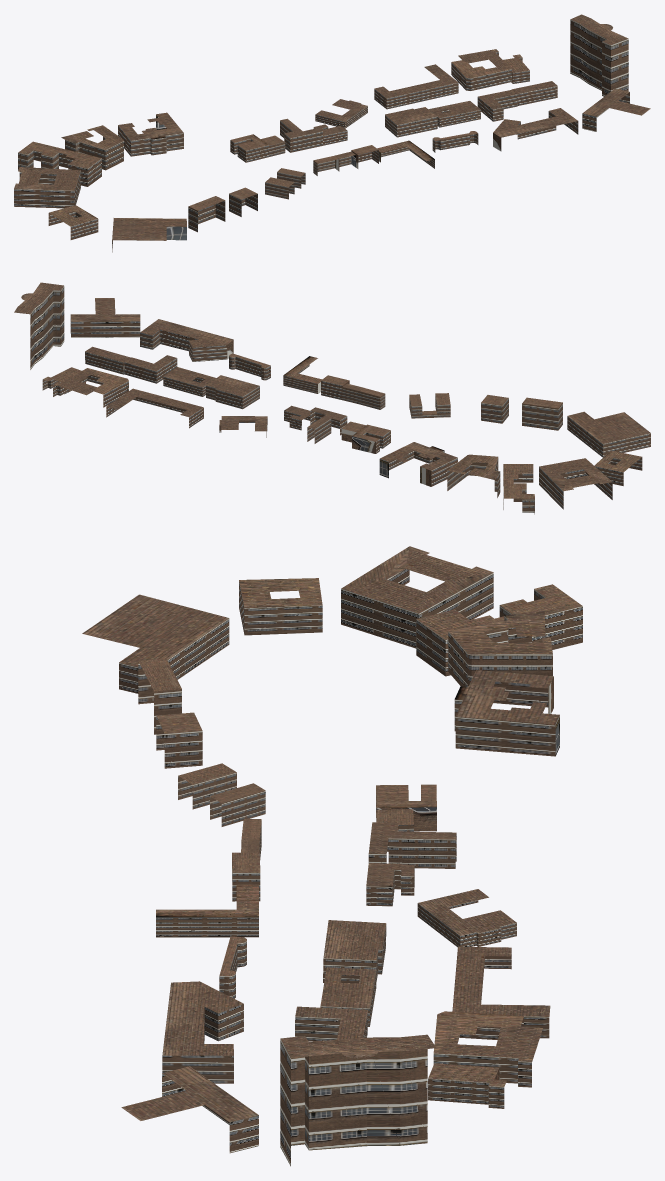
The model's file is buildings.obj.
3 renders of one model, top to bottom at view 1: azimuth 30°, elevation 25°; view 2: azimuth 150°, elevation 25°; view 3: azimuth 270°, elevation 25°, orthographic. The views are drawn at different scales.
Parts seen in each view (by area): view 1: map_5.osm_buildings.001_map_5.osm_buildings.705; view 2: map_5.osm_buildings.001_map_5.osm_buildings.705; view 3: map_5.osm_buildings.001_map_5.osm_buildings.705.
Part boxes in pixels (left/top/right/bottom): map_5.osm_buildings.001_map_5.osm_buildings.705: left=14, top=14, right=650, bottom=252; map_5.osm_buildings.001_map_5.osm_buildings.705: left=14, top=282, right=650, bottom=514; map_5.osm_buildings.001_map_5.osm_buildings.705: left=82, top=546, right=582, bottom=1166.
Size of the model in its own units: 378 by 33.54 by 140.
Materials: 1 (1 with a texture image).
